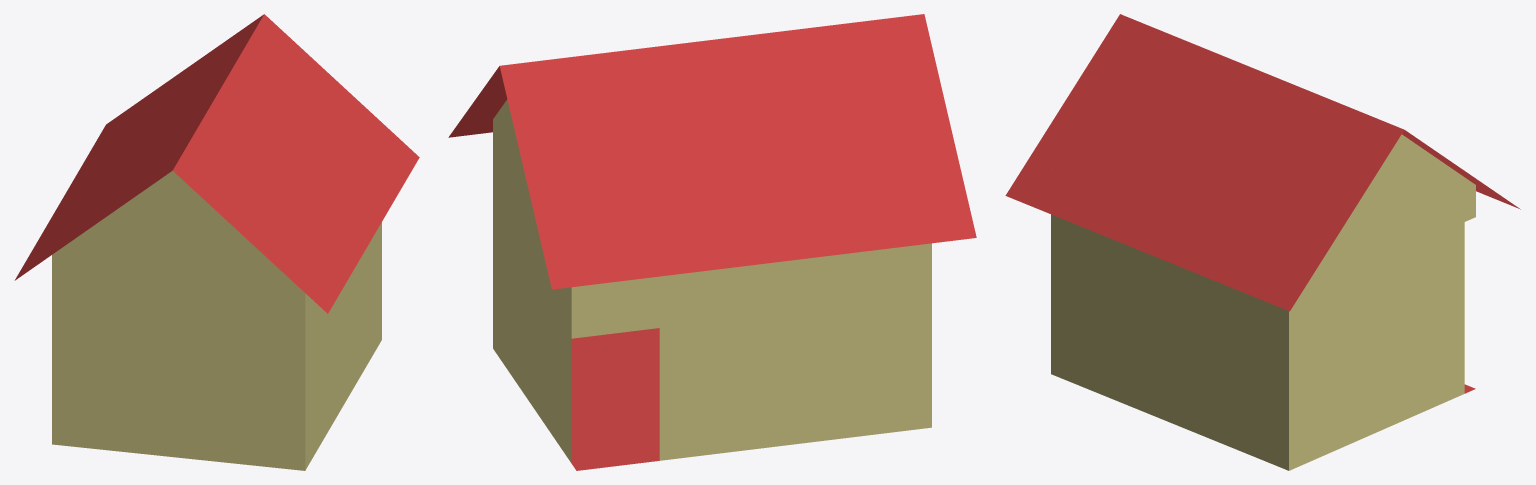
3 renders of one model, left to right at view 1: azimuth 30°, elevation 25°; view 2: azimuth 150°, elevation 25°; view 3: azimuth 270°, elevation 25°, orthographic. The views are drawn at different scales.
Size of the model in its own units: 15.98 by 16.03 by 10.63.
